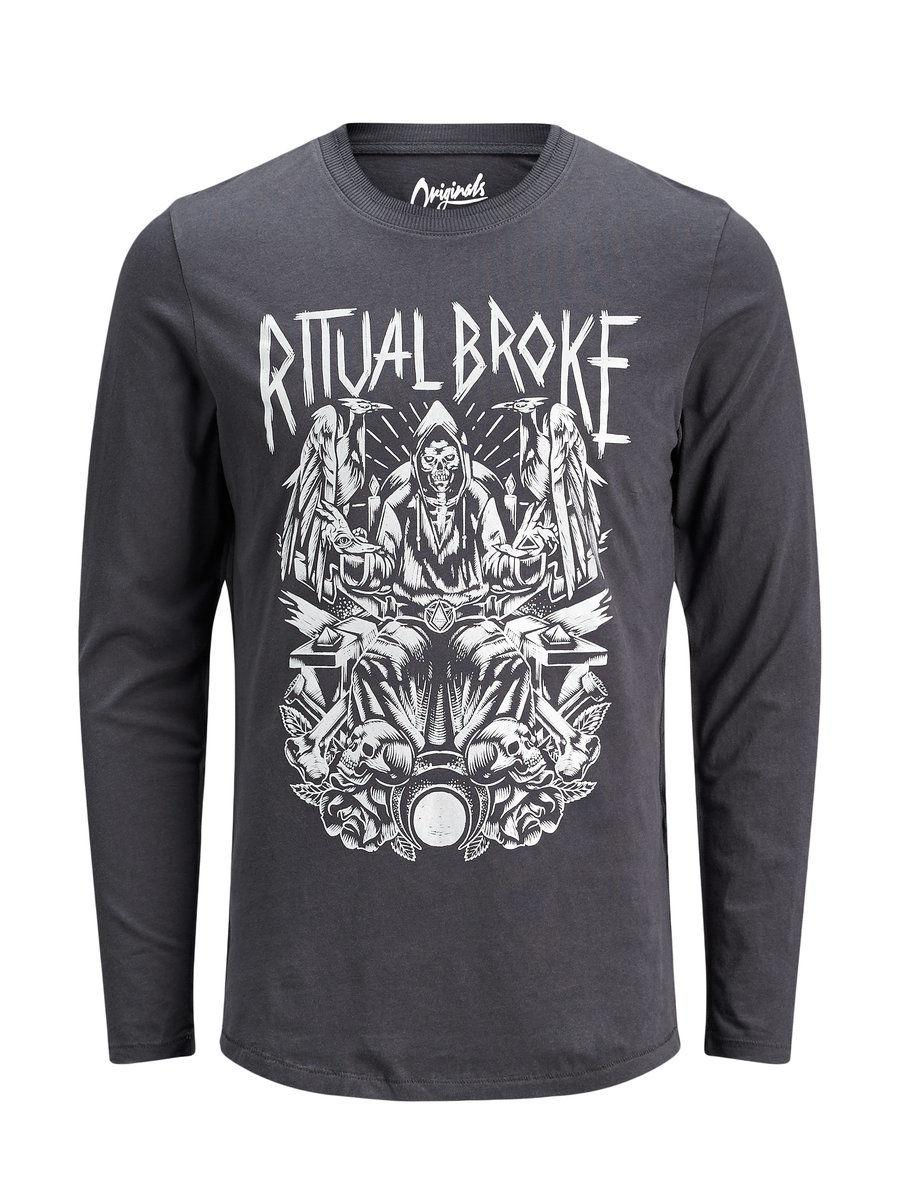teeshirt: (47, 116, 829, 1189)
